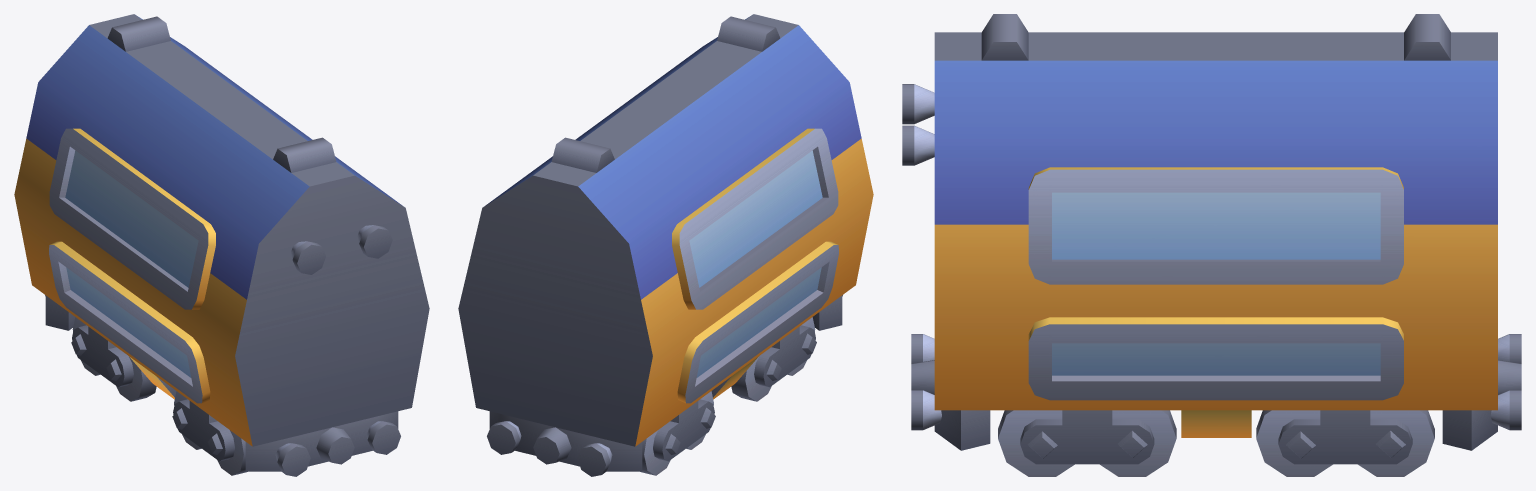
File: train-doubleC.glb
3 renders of one model, left to right at view 1: azimuth 30°, elevation 25°; view 2: azimuth 150°, elevation 25°; view 3: azimuth 270°, elevation 25°, orthographic. The views are drawn at different scales.
Visible parts, largest first — view 1: train-electric-double-c; view 2: train-electric-double-c; view 3: train-electric-double-c.
Part boxes in pixels (x1,y1,x2,y2): train-electric-double-c: [14, 14, 429, 476]; train-electric-double-c: [458, 14, 873, 476]; train-electric-double-c: [902, 14, 1521, 476].
Size of the model in its own units: 1.29 by 1.92 by 2.64.
Materials: 1 (1 with a texture image).
